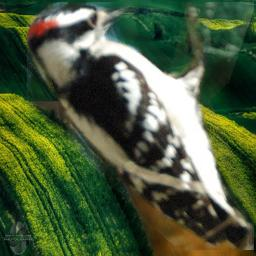Woodpecker: (27, 2, 254, 250)
